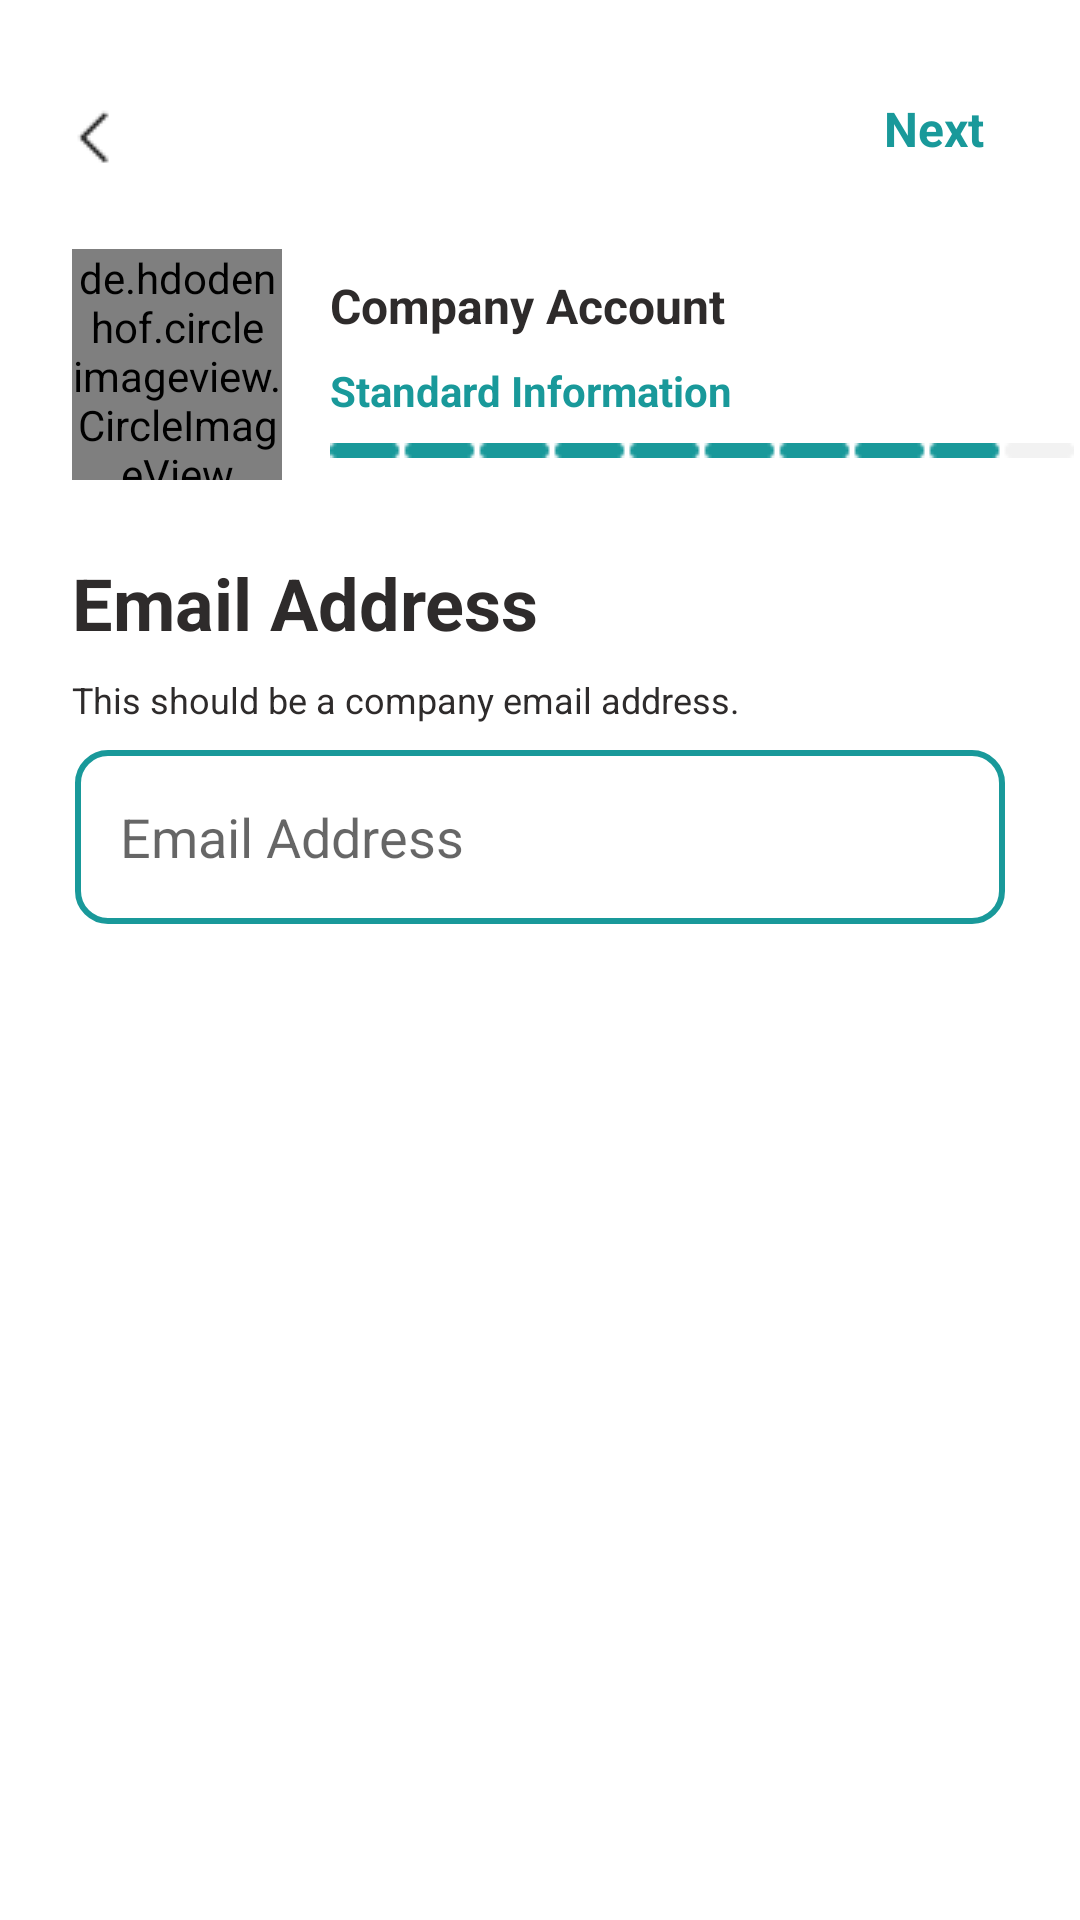

Icons on this 1080px×1920px Android screen, each with the point to tap as (x=x, y=y):
back: (x=94, y=137)
